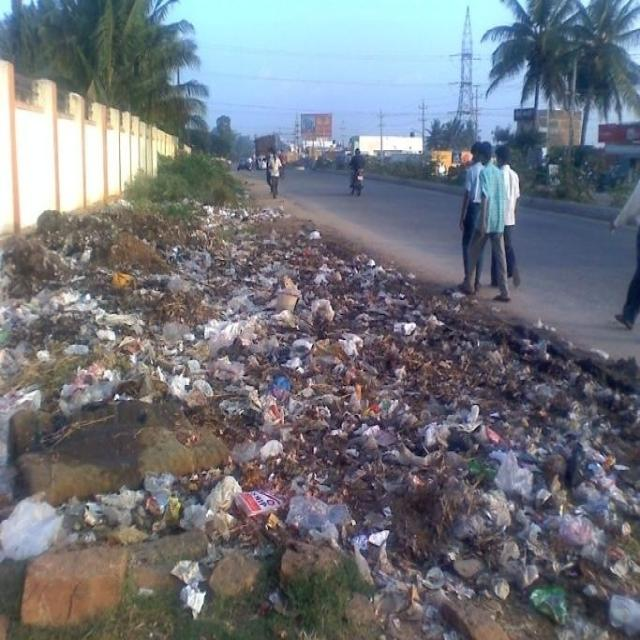garbage: (2, 220, 640, 640)
